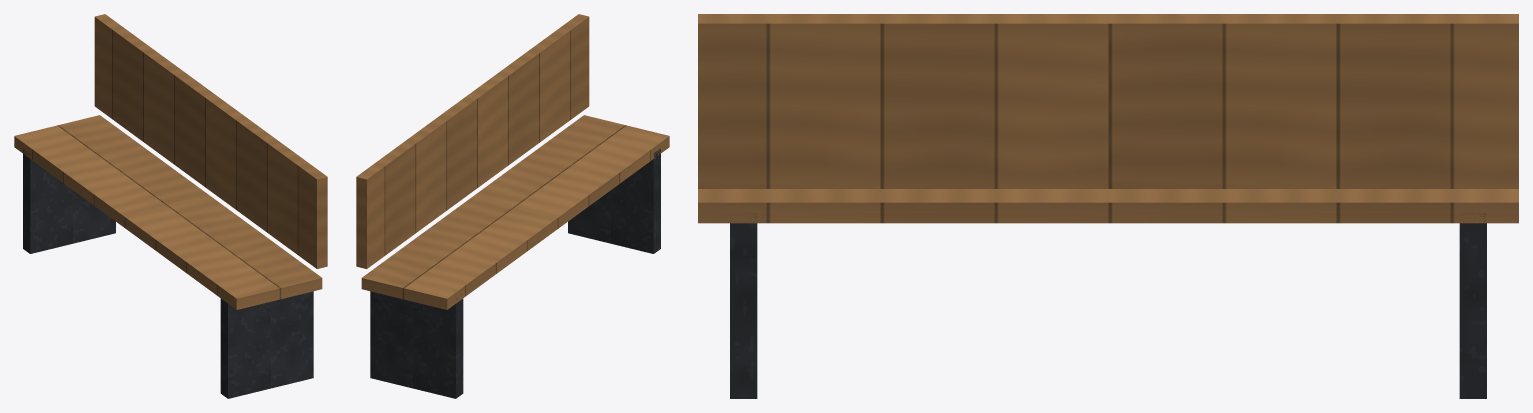
The model's file is lawka_parkowa.glb.
The picture shows the model from 3 angles, left to right: view 1: azimuth 30°, elevation 25°; view 2: azimuth 150°, elevation 25°; view 3: azimuth 270°, elevation 25°; orthographic projection. The views are drawn at different scales.
Parts seen in each view (by area): view 1: lawka_parkowa; view 2: lawka_parkowa; view 3: lawka_parkowa.
Part boxes in pixels (left/top/right/bottom): lawka_parkowa: left=14, top=14, right=327, bottom=398; lawka_parkowa: left=356, top=14, right=669, bottom=398; lawka_parkowa: left=698, top=14, right=1518, bottom=398.
Size of the model in its own units: 0.425 by 0.92 by 1.8.
2 materials, 2 textured.
